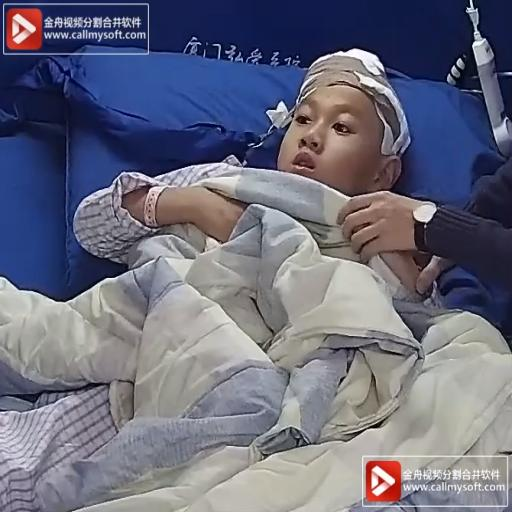Seizure: (280, 36, 411, 200)
